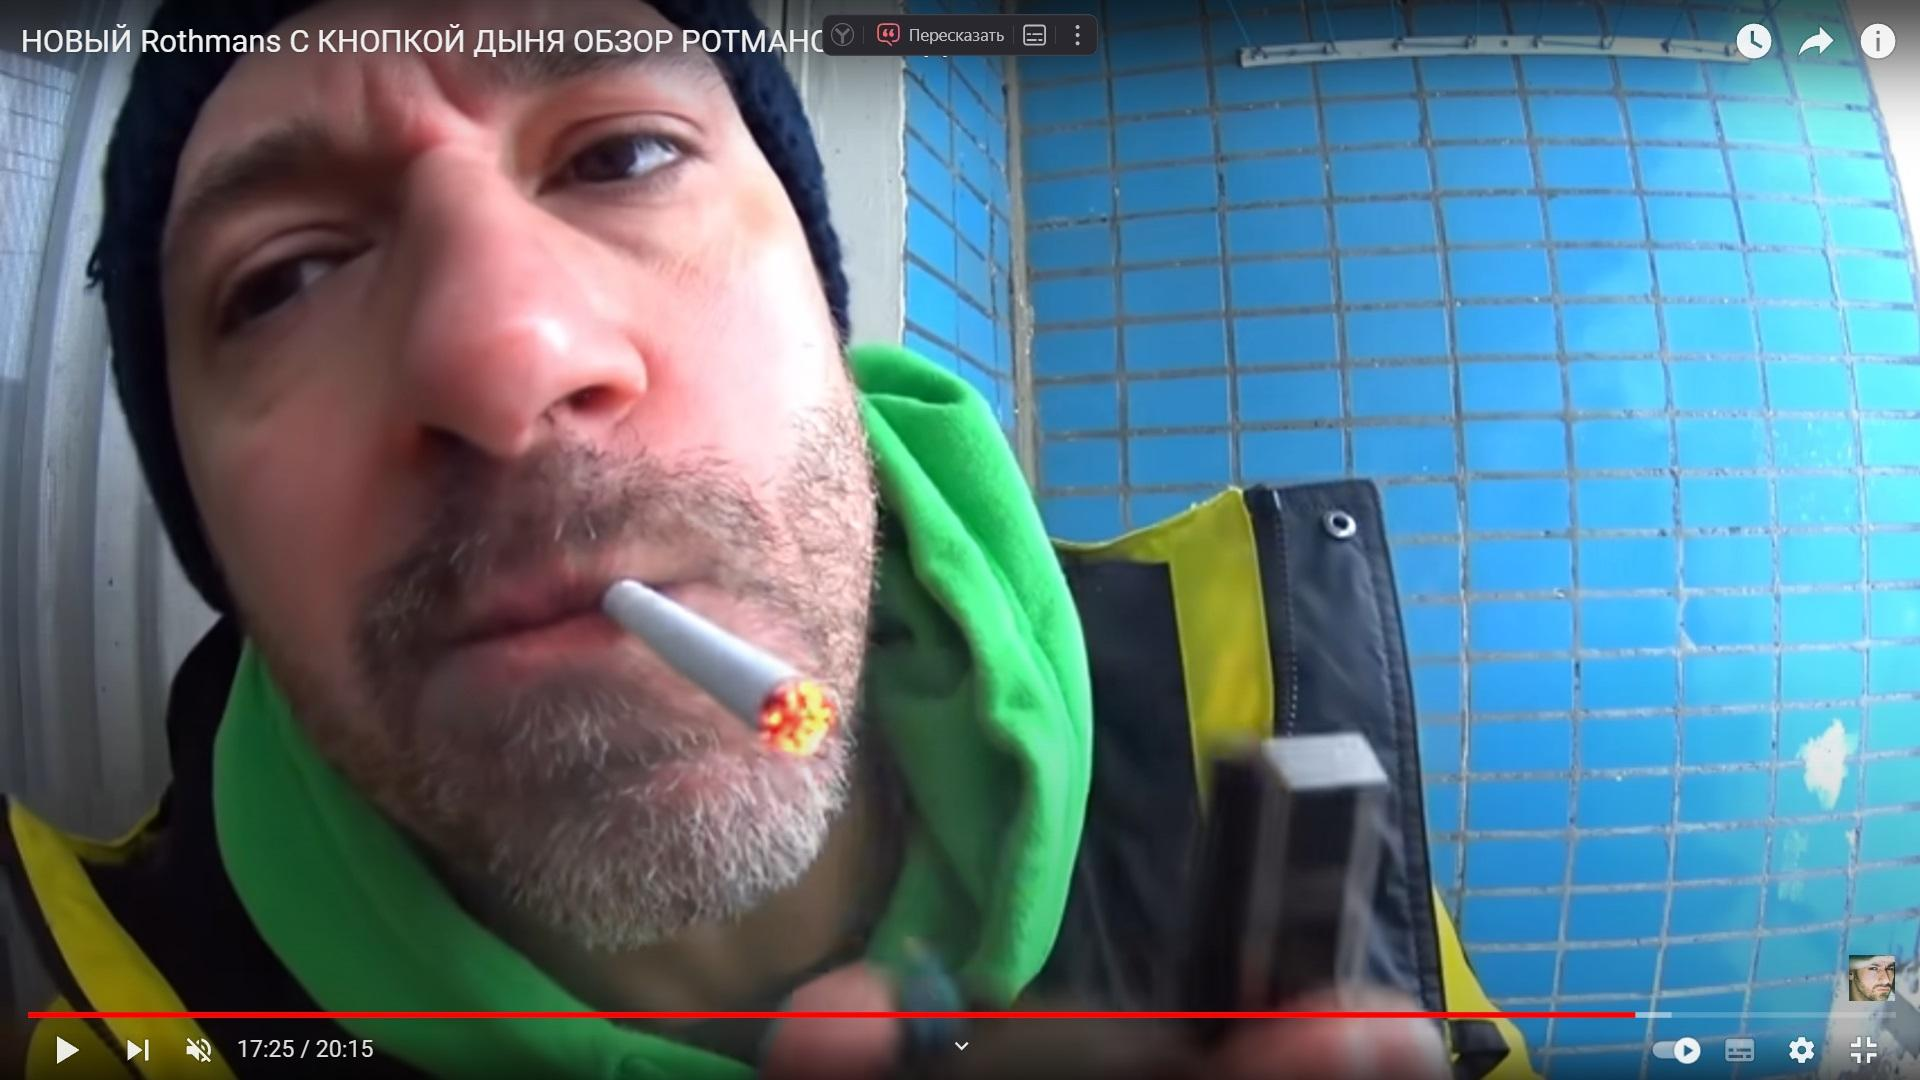cigarette: (604, 582, 840, 757)
